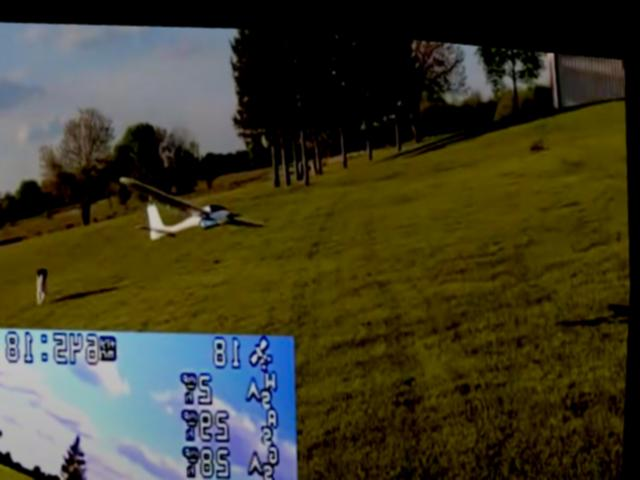iha: (110, 160, 272, 251)
